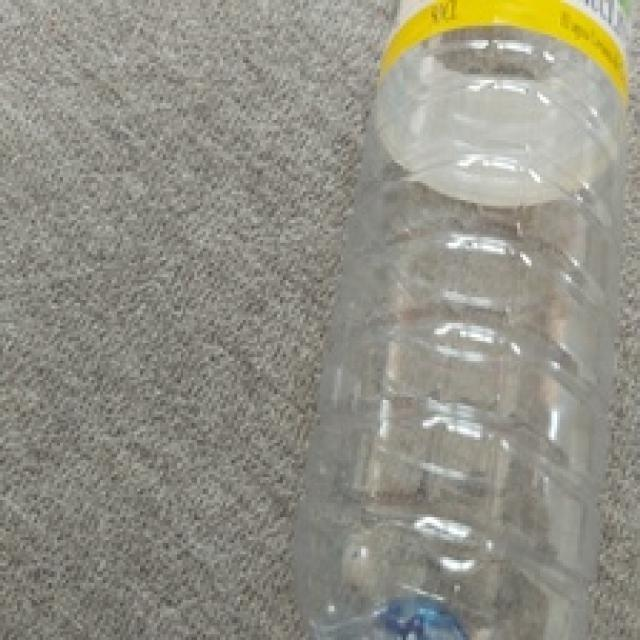Plastic: (292, 0, 640, 635)
